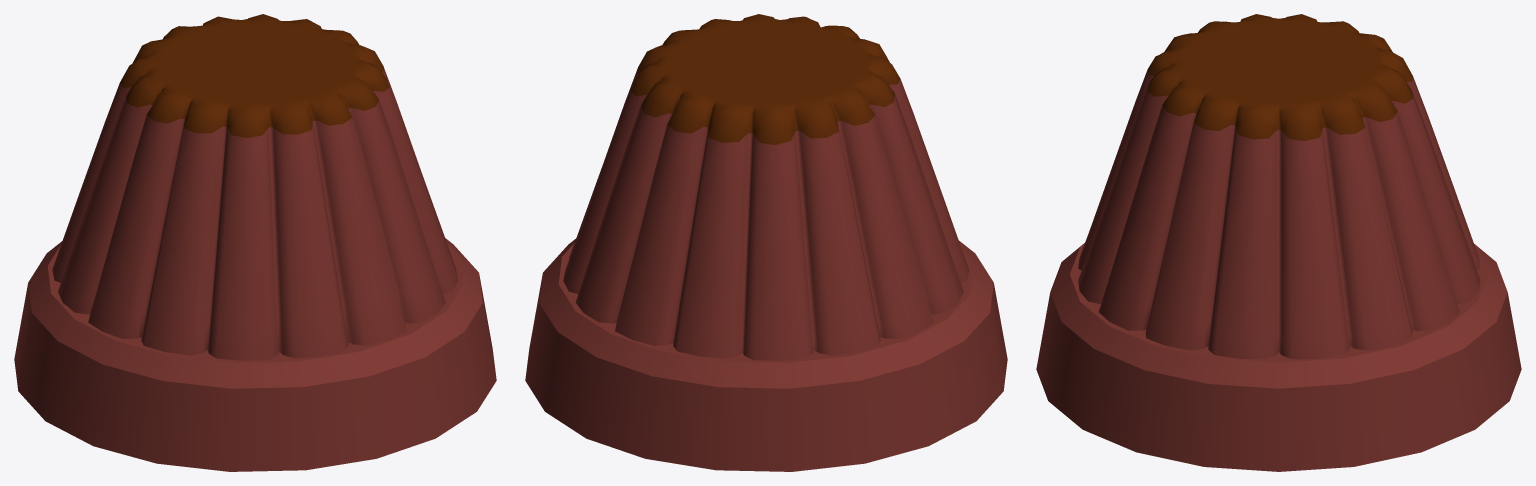
Rendered from new_pudding.fbx.
3 views of the same model, side by side, from view 1: azimuth 30°, elevation 25°; view 2: azimuth 150°, elevation 25°; view 3: azimuth 270°, elevation 25° (orthographic).
Visible parts, largest first — view 1: pCylinder1, pCylinder2; view 2: pCylinder1, pCylinder2; view 3: pCylinder1, pCylinder2.
Boxes of the visible parts, bbox=[...] form: pCylinder1: bbox=[52, 14, 458, 360]; pCylinder2: bbox=[14, 238, 496, 471]; pCylinder1: bbox=[563, 14, 969, 360]; pCylinder2: bbox=[525, 239, 1007, 471]; pCylinder1: bbox=[1078, 14, 1480, 359]; pCylinder2: bbox=[1036, 243, 1521, 471].
Bounding box in the file's own units: 19 × 13.27 × 19.
